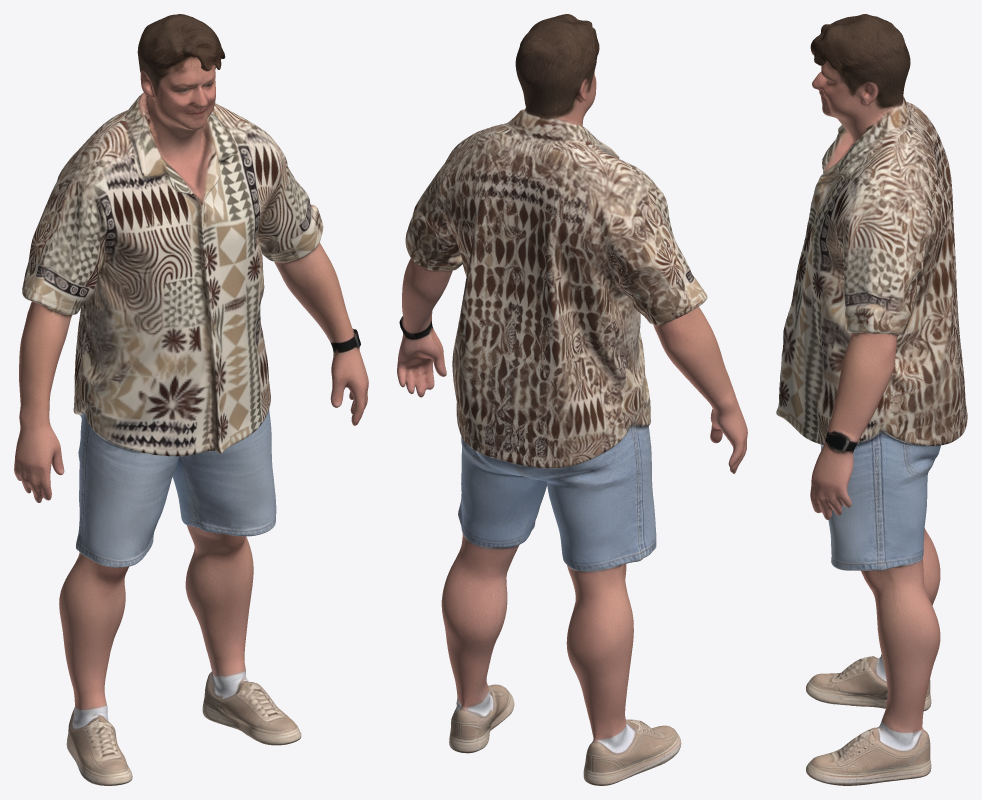
The model's file is Meshy_AI_Island_Pattern_Portra_1010053346_texture.fbx.
3 renders of one model, left to right at view 1: azimuth 30°, elevation 25°; view 2: azimuth 150°, elevation 25°; view 3: azimuth 270°, elevation 25°, orthographic.
Parts seen in each view (by area): view 1: Mesh_0; view 2: Mesh_0; view 3: Mesh_0.
Part boxes in pixels (x1,y1,x2,y2): Mesh_0: (14, 14, 368, 785); Mesh_0: (397, 14, 747, 785); Mesh_0: (776, 14, 967, 785).
Bounding box in the file's own units: 94.4 × 190 × 45.56.
1 material, 1 textured.
